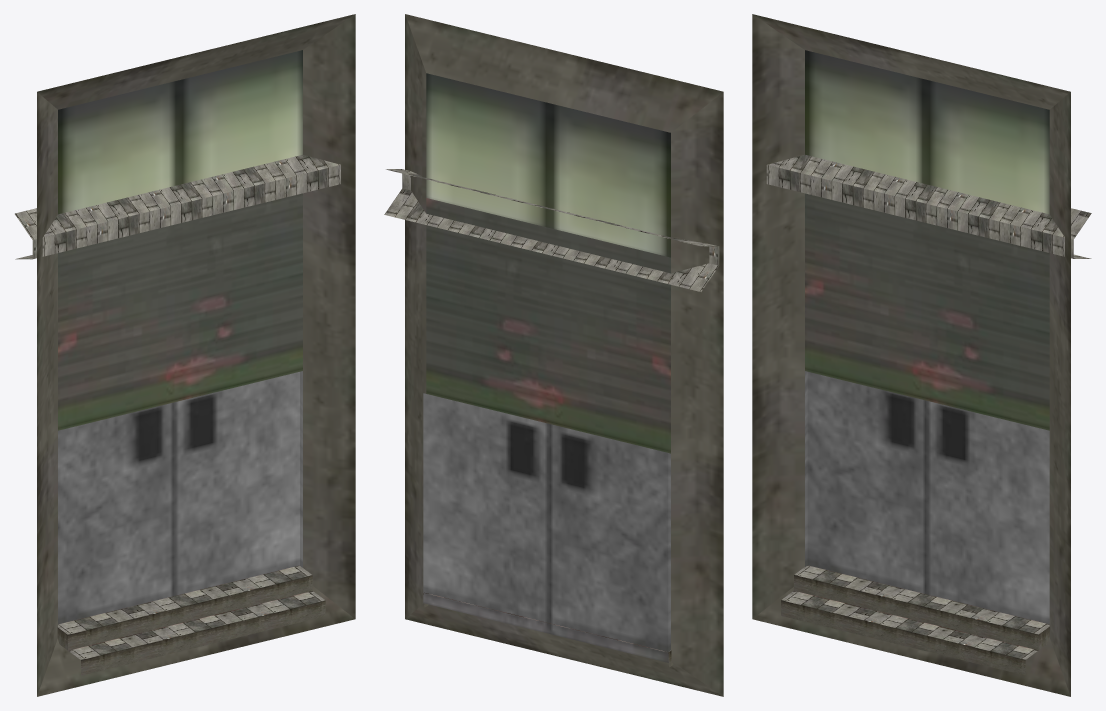
File: wall-module-03.glb
3 renders of one model, left to right at view 1: azimuth 30°, elevation 25°; view 2: azimuth 150°, elevation 25°; view 3: azimuth 330°, elevation 25°, orthographic.
Parts seen in each view (by area): view 1: Wall_Module_03; view 2: Wall_Module_03; view 3: Wall_Module_03.
Part boxes in pixels (x1,y1,x2,y2): Wall_Module_03: [15, 14, 355, 696]; Wall_Module_03: [384, 14, 723, 696]; Wall_Module_03: [752, 14, 1091, 696].
Size of the model in its own units: 2.27 by 4.13 by 0.3728.
1 material, 1 textured.
